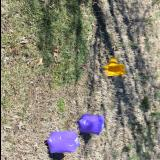cone: (102, 56, 124, 76)
cube: (45, 130, 79, 154), (76, 114, 104, 134)
